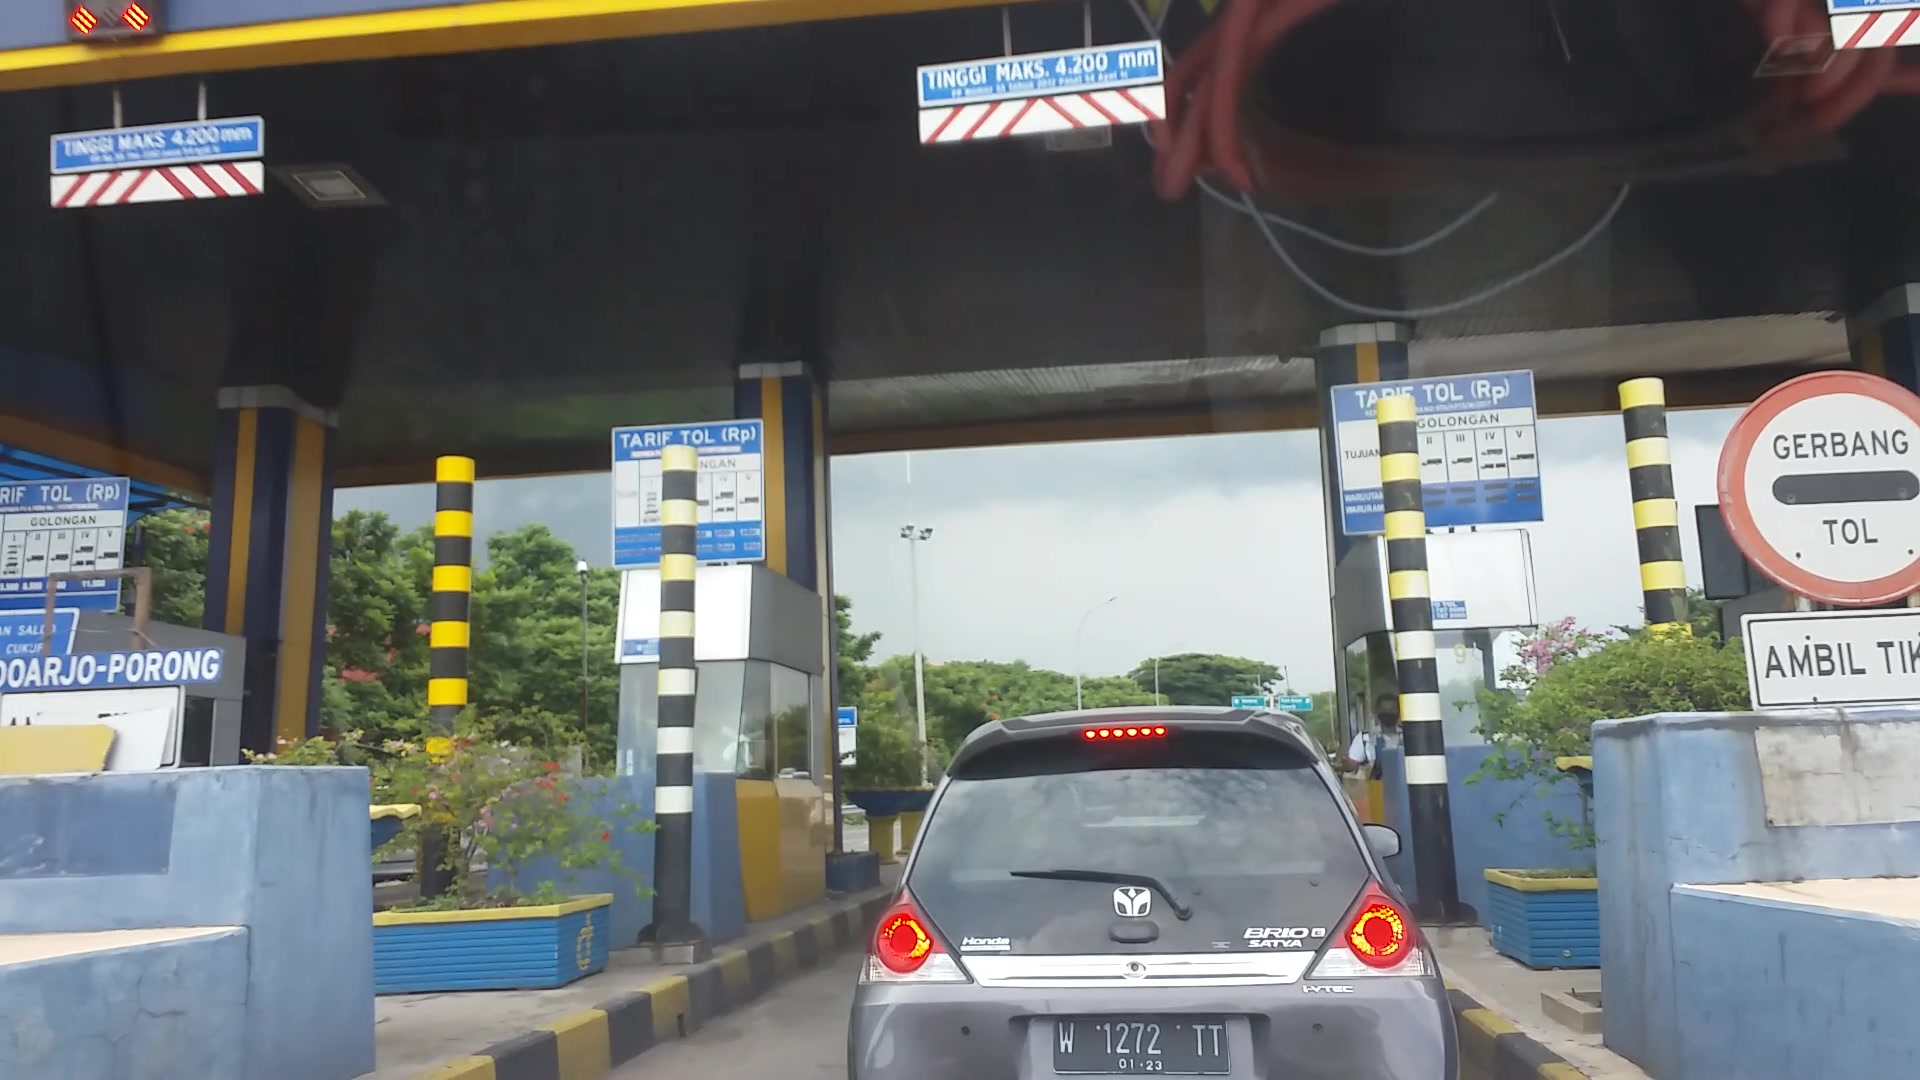plate_positive: (1054, 1015, 1228, 1075)
